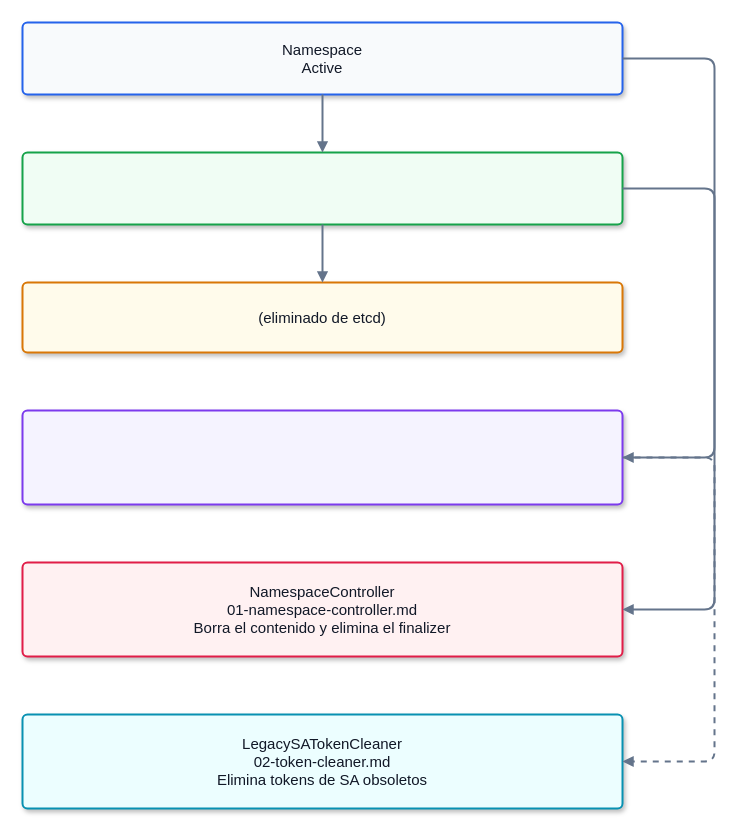
This 740x833 diagram has some shape labels left out. The shapes that lost their labels are listed below. From the top down, each one's centre as x and y in pixels, then its label:
At pixel 323 189: "Namespace Terminating".
At pixel 323 458: "ServiceAccountsController 03-serviceaccounts-controller.md Crea la SA 'default'".
